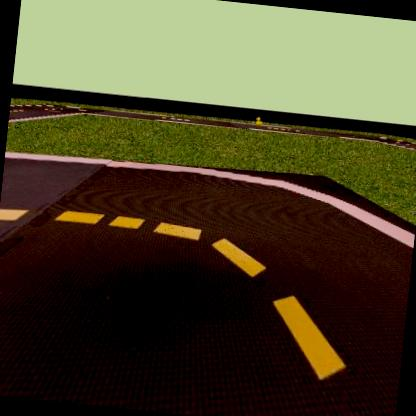Duckie: (252, 114, 264, 126)
